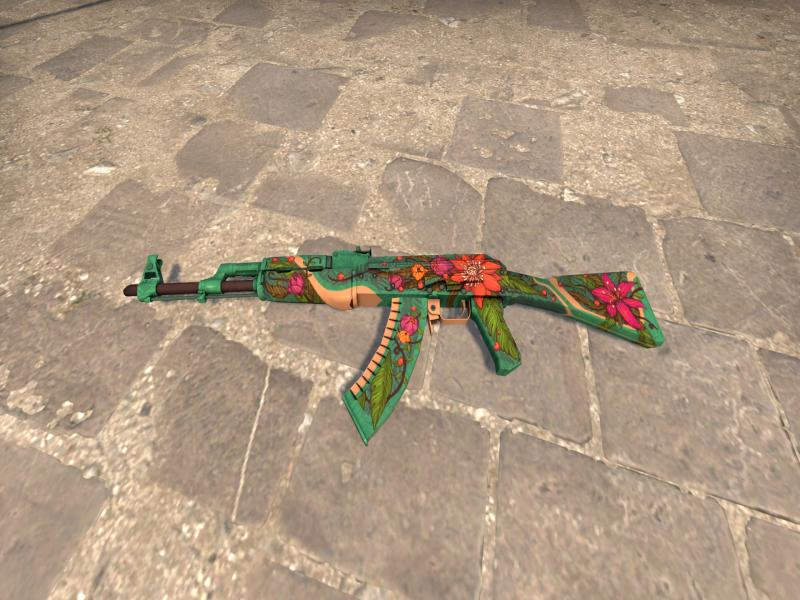AK47: (135, 245, 665, 440)
